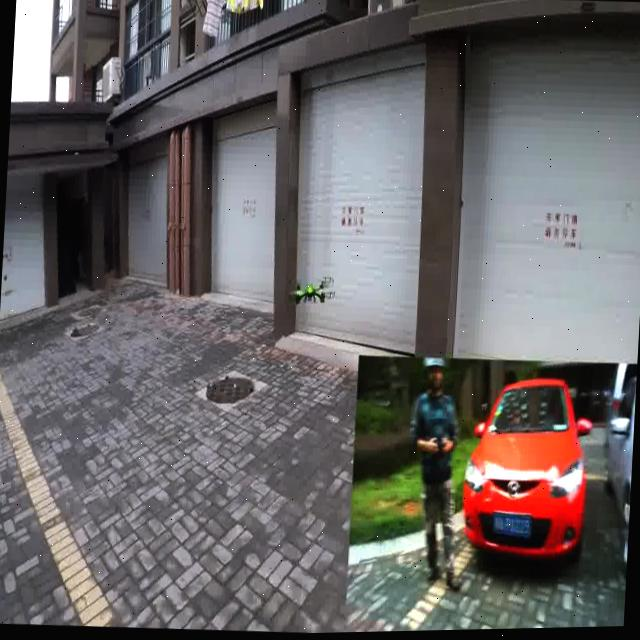drone: (284, 267, 334, 310)
